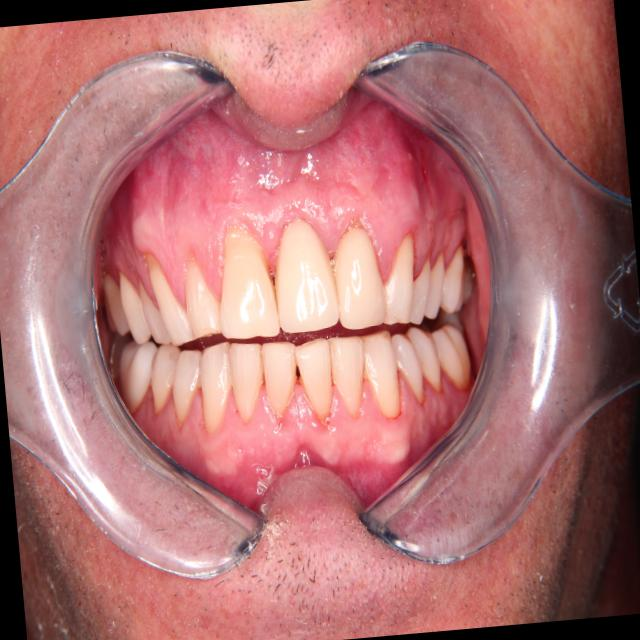tooth: (263, 209, 343, 339), (206, 213, 283, 347), (321, 210, 392, 335), (142, 244, 203, 352), (368, 226, 426, 332), (177, 244, 229, 343), (323, 325, 374, 425), (291, 330, 340, 430), (192, 337, 239, 436), (110, 334, 162, 420), (359, 326, 405, 422), (225, 336, 272, 429), (257, 332, 304, 423), (164, 344, 209, 428), (385, 326, 429, 411), (143, 340, 190, 419), (113, 259, 154, 347), (403, 317, 446, 398), (429, 320, 475, 393), (134, 268, 174, 349), (434, 236, 471, 317), (418, 240, 452, 327), (404, 250, 437, 331), (97, 266, 132, 340)
